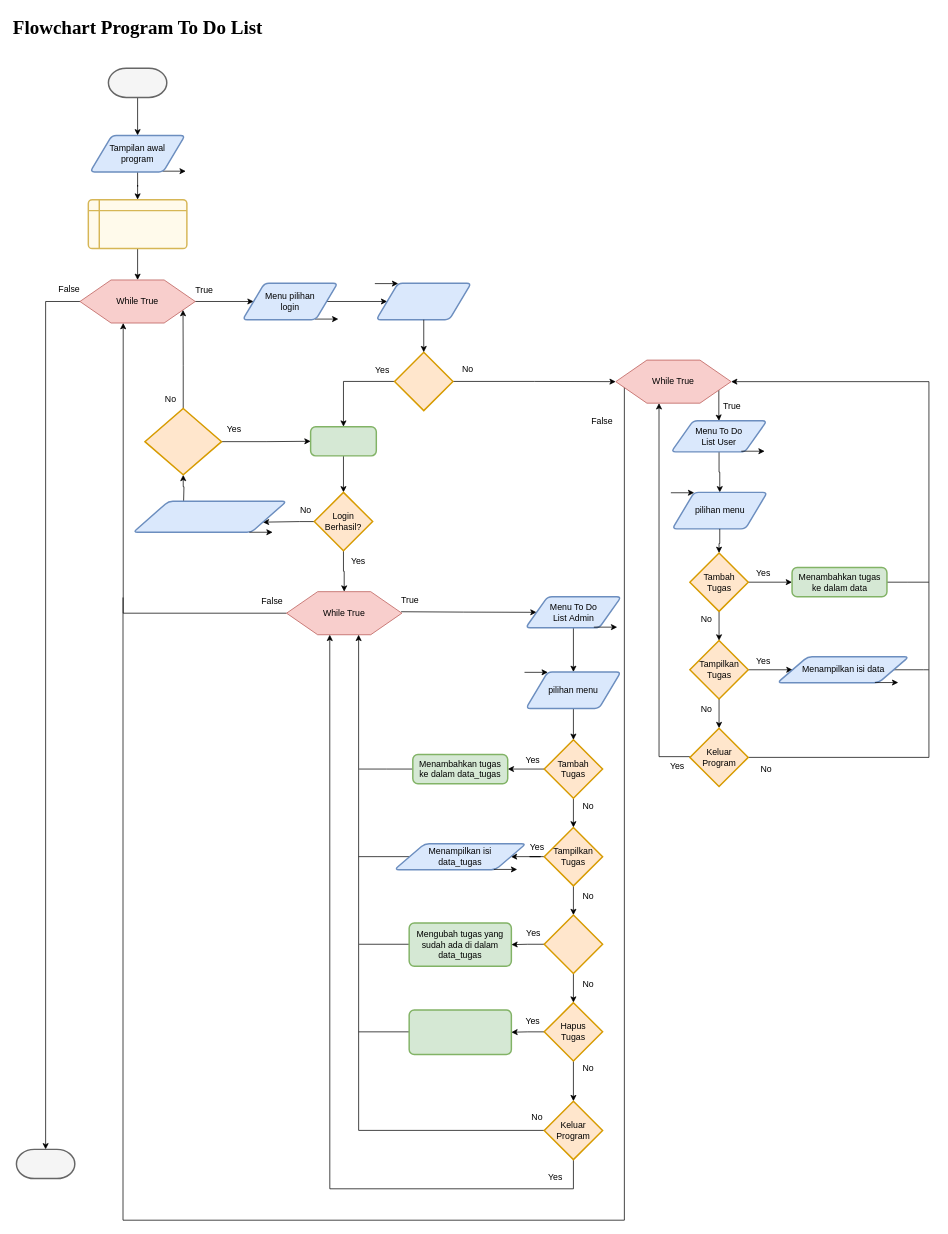
This 948x1234 diagram has some shape labels left out. The shapes that lost their labels are listed below. From the top down, each one's centre as x and y in pixels, then its label:
(x=137, y=82): Start
(x=137, y=224): gagal_login = 0 data_tugas = {}
(x=423, y=301): pilihan login
(x=423, y=381): Sebagai Admin?
(x=183, y=441): Lanjut login sebagai admin?
(x=343, y=441): Input Login Admin
(x=209, y=516): Gagal login sebagai admin
(x=573, y=944): Ubah Tugas
(x=460, y=1032): Menghapus tugas yang sudah ada di dalam data_tugas
(x=45, y=1163): End
